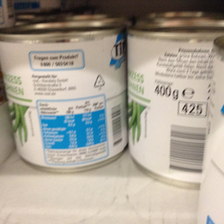beans: (1, 21, 126, 173), (129, 16, 223, 185)
